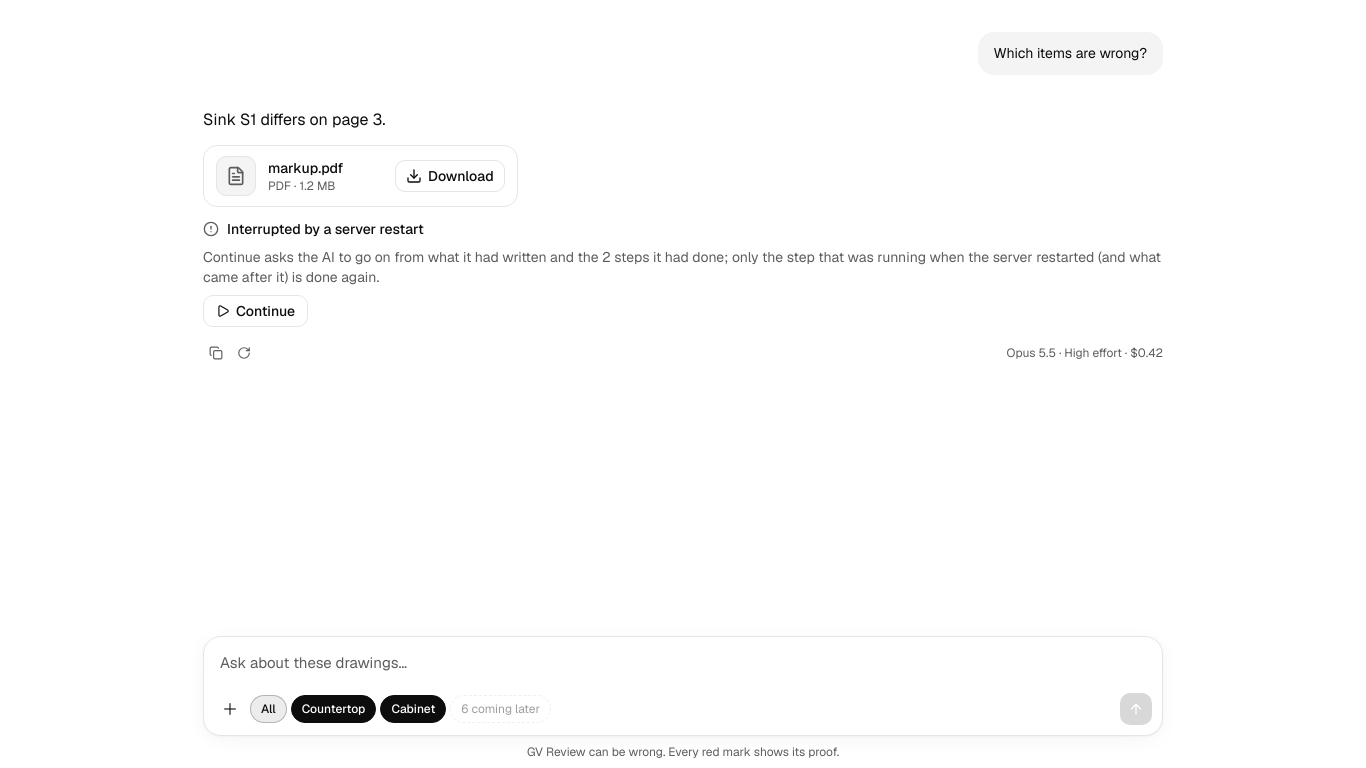
Test case: an answer a server restart interrupted › shows what Continue redoes, and Continue sends the follow-up with the answer’s id
Check: the text "Interrupted by a server restart" is shown, box [227, 219, 424, 239]
Check: the text "Continue asks the AI to go on from what it had written and the 2 steps it had done; only the step that was running when " is shown, box [203, 248, 1161, 286]
Click the button "Continue": click(256, 311) [203, 295, 308, 327]
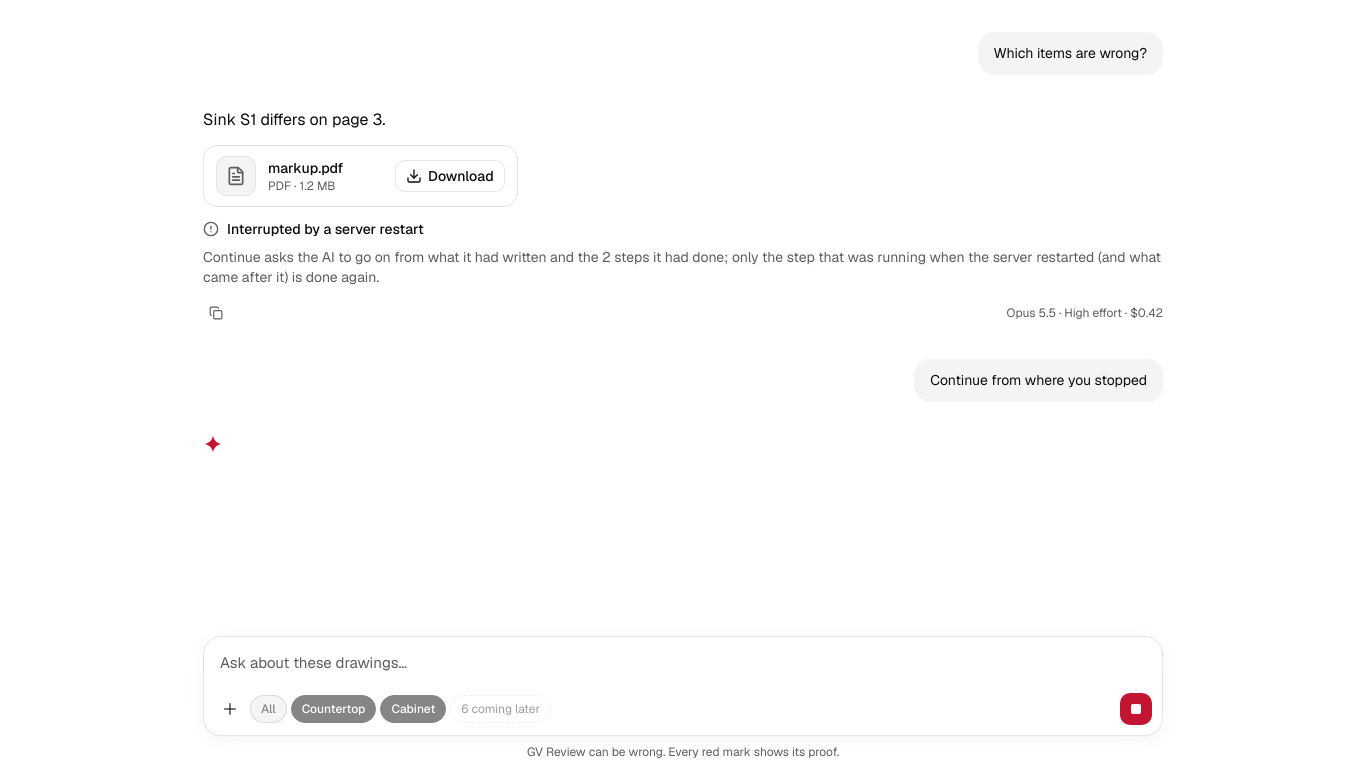
Check: the text "Continue from where you stopped" is shown, box [914, 359, 1163, 402]
